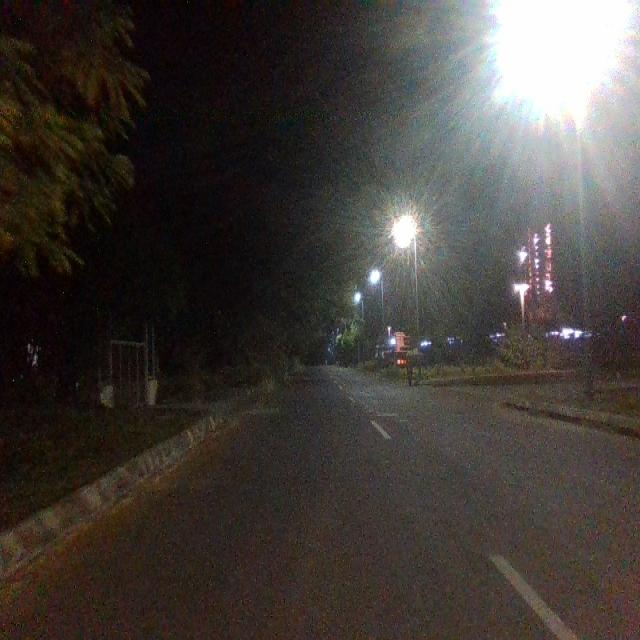lane: (0, 379, 556, 640)
